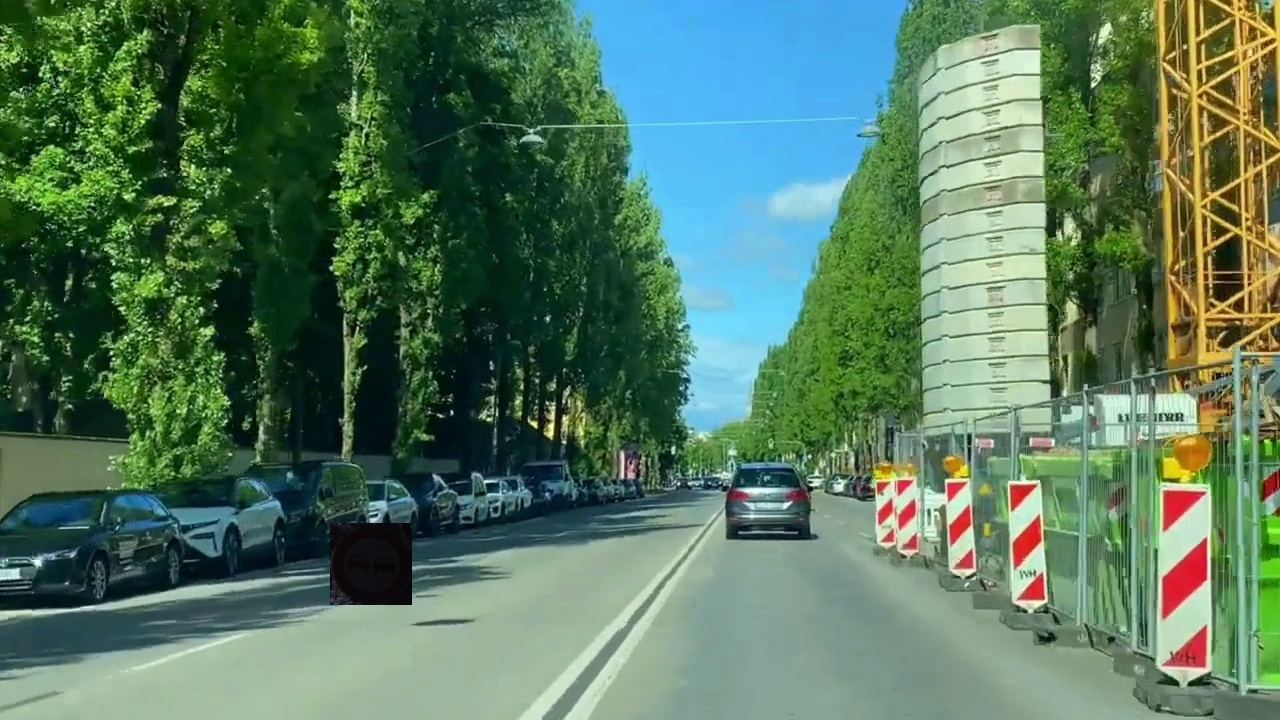No passing: (330, 523, 412, 605)
